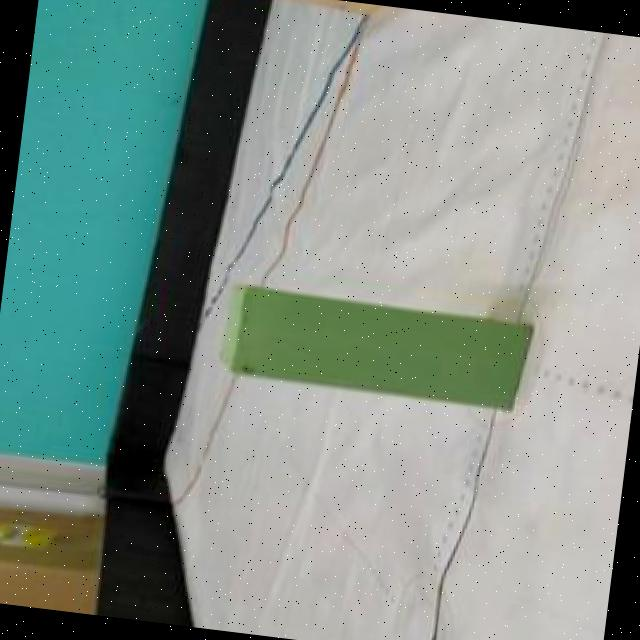greenbox: (217, 283, 538, 412)
